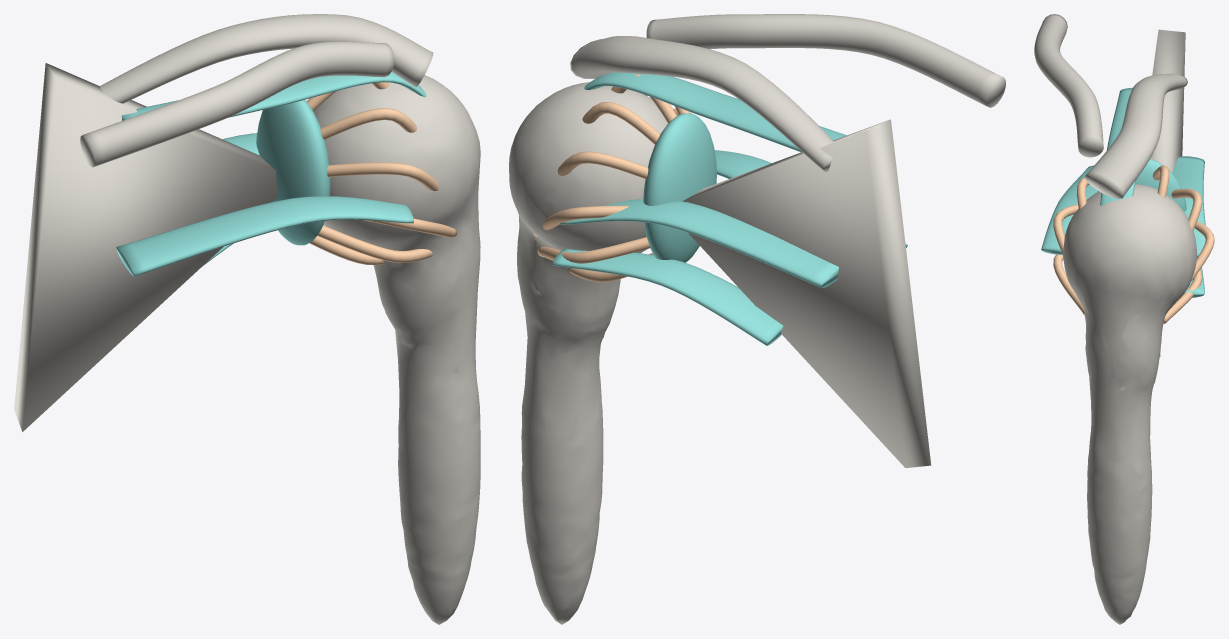
Rendered from shoulder-capsule.glb.
The picture shows the model from 3 angles, left to right: view 1: azimuth 30°, elevation 25°; view 2: azimuth 150°, elevation 25°; view 3: azimuth 270°, elevation 25°; orthographic projection. The views are drawn at different scales.
Visible parts, largest first — view 1: static #eee5d3, static #49bdb4, static #f2a066; view 2: static #eee5d3, static #49bdb4, static #f2a066; view 3: static #eee5d3, static #49bdb4, static #f2a066.
Boxes of the visible parts, x1,y1,x2,y2 form: static #eee5d3: [14, 14, 480, 624]; static #49bdb4: [116, 72, 426, 276]; static #f2a066: [306, 82, 457, 265]; static #eee5d3: [509, 14, 1005, 624]; static #49bdb4: [552, 72, 907, 345]; static #f2a066: [533, 74, 690, 282]; static #eee5d3: [1034, 14, 1197, 624]; static #49bdb4: [1041, 87, 1205, 297]; static #f2a066: [1053, 165, 1214, 323].
Bounding box in the file's own units: 0.2914 × 0.4095 × 0.1394.
